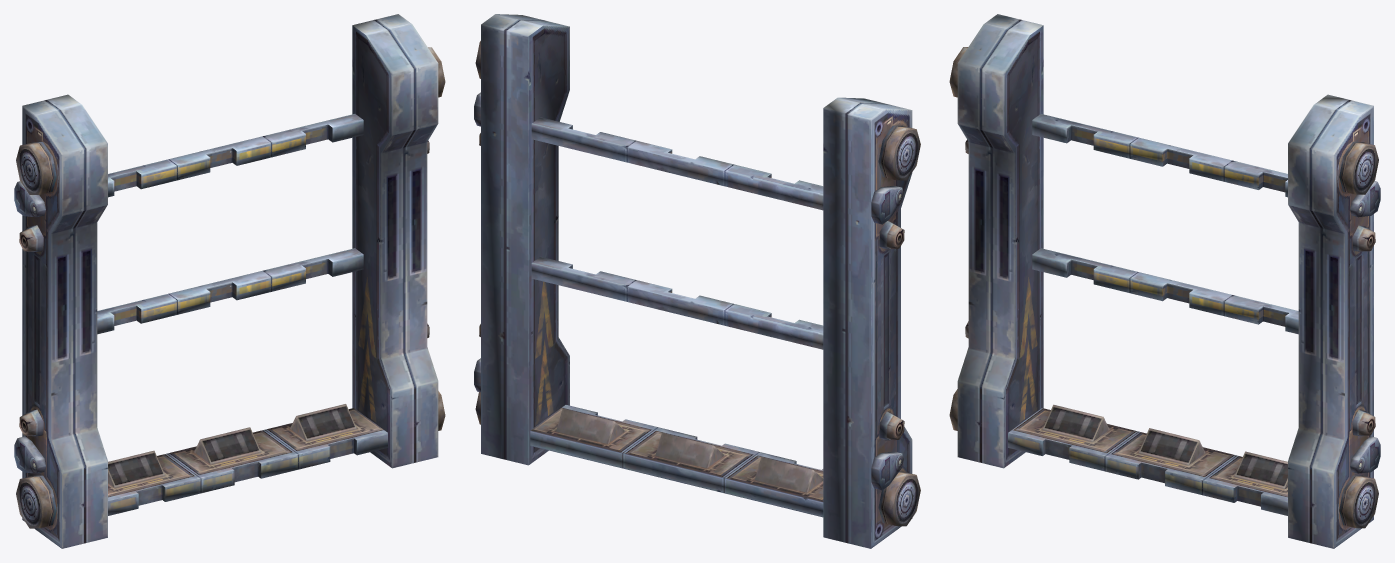
Rendered from item_furn_gun_rack_imperial.glb.
3 renders of one model, left to right at view 1: azimuth 30°, elevation 25°; view 2: azimuth 150°, elevation 25°; view 3: azimuth 330°, elevation 25°, orthographic. The views are drawn at different scales.
Parts seen in each view (by area): view 1: item_furn_gun_rack_imperial; view 2: item_furn_gun_rack_imperial; view 3: item_furn_gun_rack_imperial.
Part boxes in pixels (x1=…): item_furn_gun_rack_imperial: x1=14, y1=14, x2=445, y2=548; item_furn_gun_rack_imperial: x1=474, y1=14, x2=920, y2=548; item_furn_gun_rack_imperial: x1=949, y1=14, x2=1380, y2=548.
Size of the model in its own units: 0.1906 by 0.1875 by 0.0327.
1 material, 1 textured.
